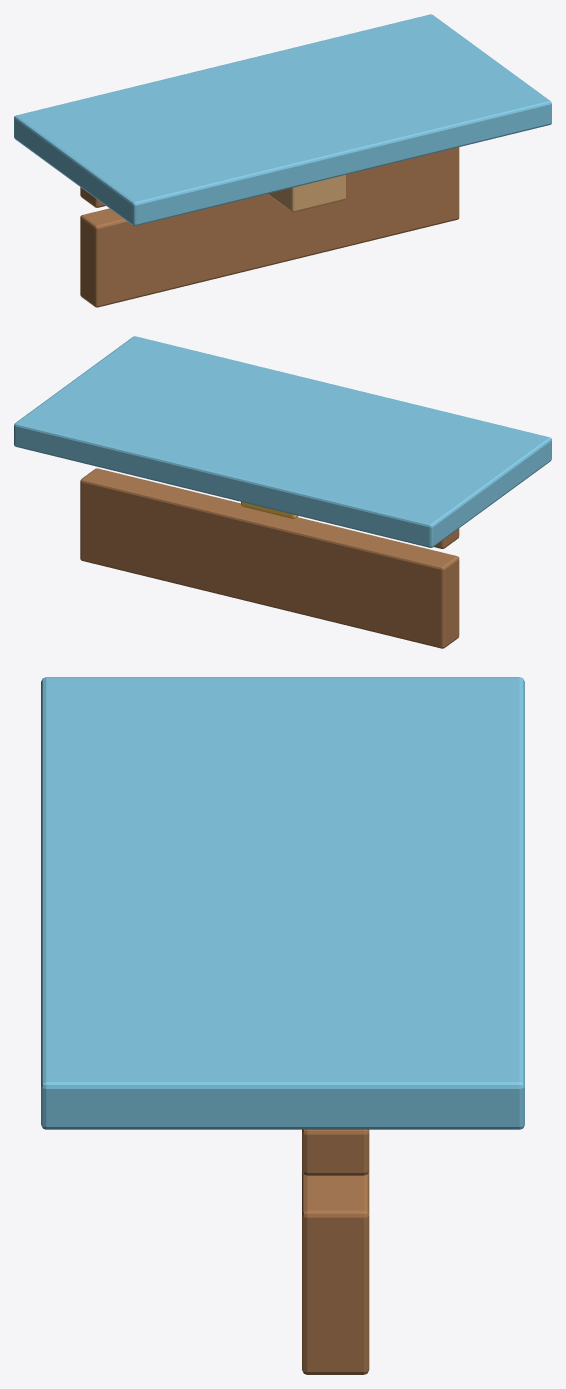
The model's file is table.glb.
3 renders of one model, top to bottom at view 1: azimuth 30°, elevation 25°; view 2: azimuth 150°, elevation 25°; view 3: azimuth 270°, elevation 25°, orthographic. The views are drawn at different scales.
Visible parts, largest first — view 1: Top cutaway, Apron lower, Button body; view 2: Top cutaway, Apron lower; view 3: Top cutaway, Apron lower, Apron upper.
Part boxes in pixels (x1,y1,x2,y2): Top cutaway: (14,14,551,225); Apron lower: (80,147,459,307); Button body: (267,175,345,212); Top cutaway: (14,336,551,547); Apron lower: (80,468,459,648); Top cutaway: (41,677,524,1129); Apron lower: (302,1171,369,1374); Apron upper: (302,1129,369,1175).
Bounding box in the file's own units: 4.6 × 1.67 × 2.3.
